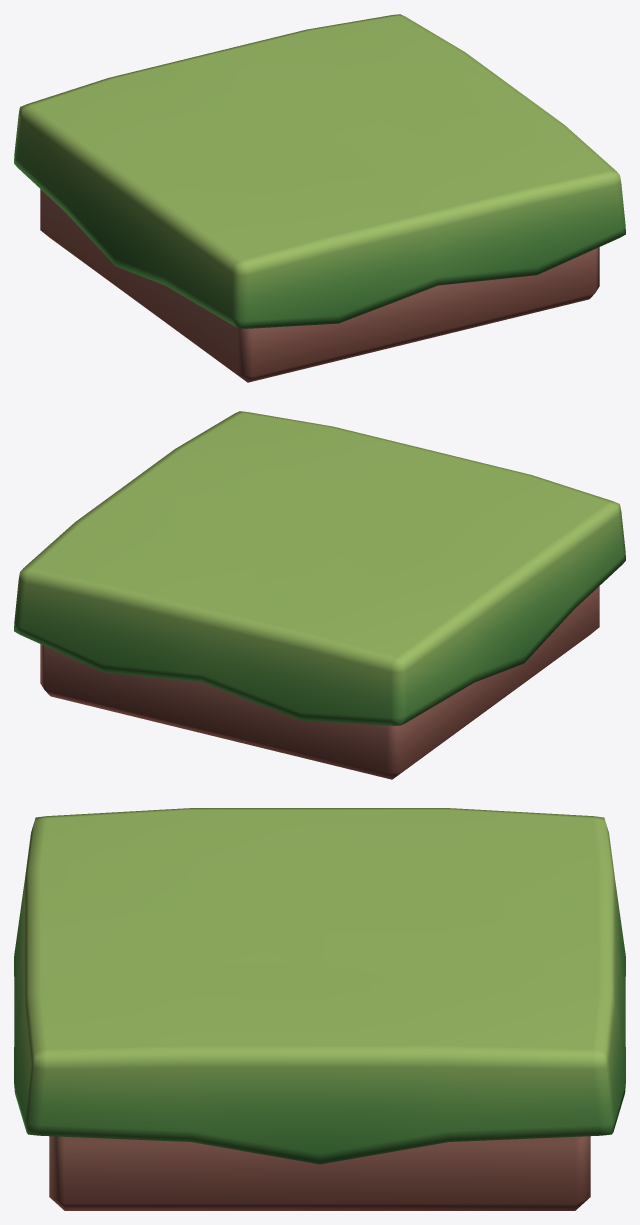
The model's file is Forest_Spawn 1.fbx.
3 renders of one model, top to bottom at view 1: azimuth 30°, elevation 25°; view 2: azimuth 150°, elevation 25°; view 3: azimuth 270°, elevation 25°, orthographic. The views are drawn at different scales.
Parts seen in each view (by area): view 1: Plane.020; view 2: Plane.020; view 3: Plane.020.
Boxes of the visible parts, <box> form: Plane.020: <box>14,14,625,382</box>; Plane.020: <box>14,411,625,779</box>; Plane.020: <box>14,808,625,1210</box>.
Size of the model in its own units: 1131 by 357 by 1131.
